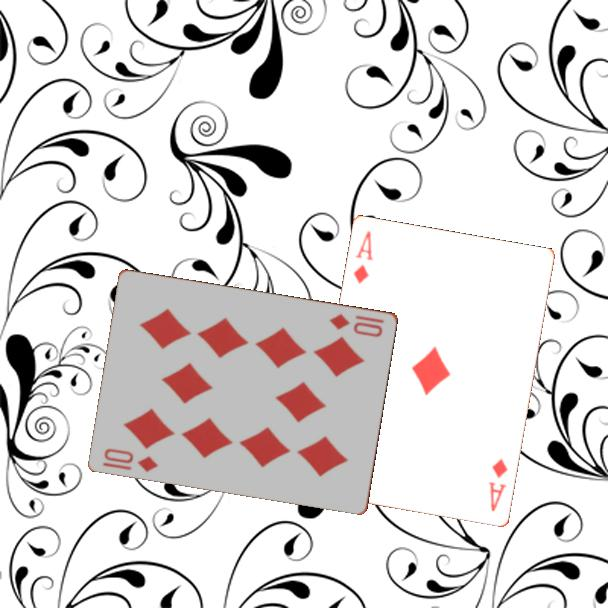d01: (485, 455, 511, 515), (350, 227, 376, 287)
d10: (99, 444, 161, 475), (326, 310, 387, 340)
